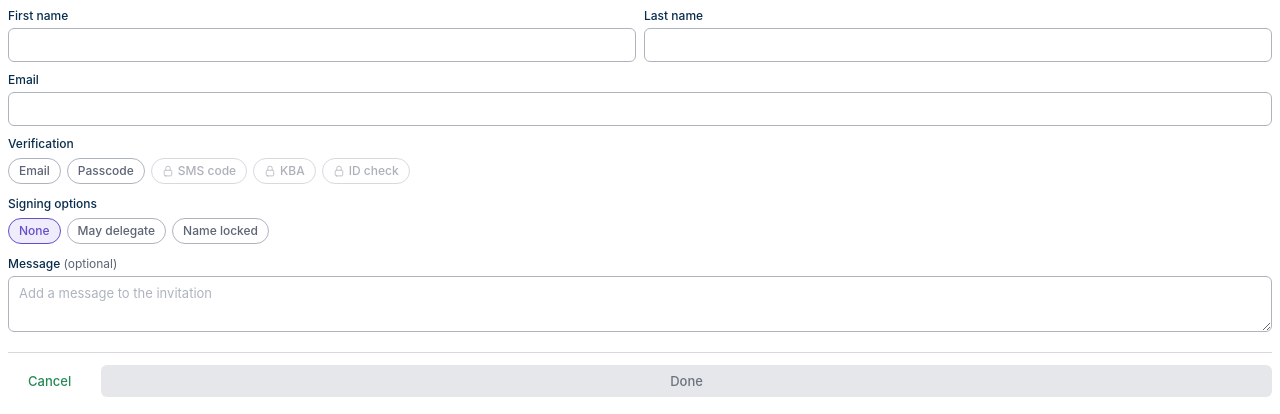
ContactPicker › filters suggestions by the first-name text
Type "Sue" into the field labelled "First name" at {"x": 322, "y": 45}, box [8,28,636,62]
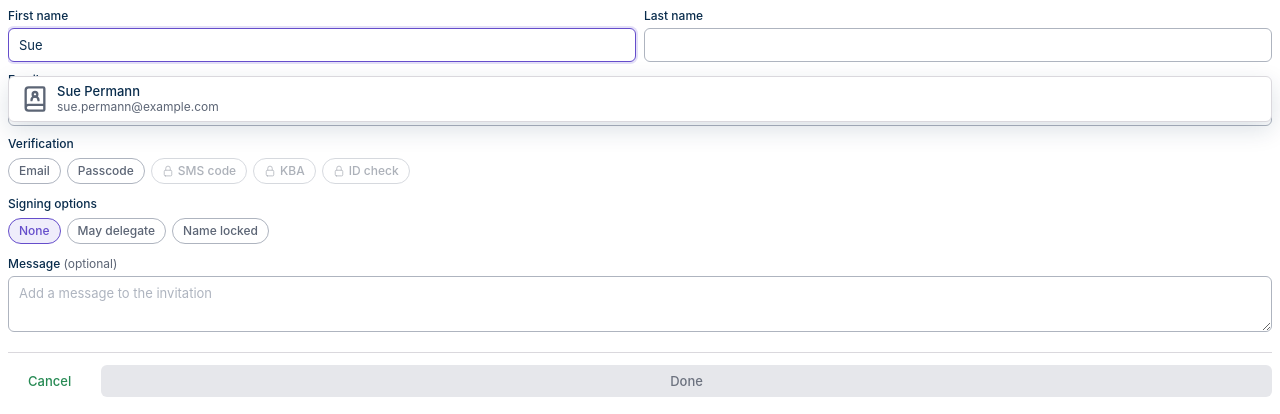
Check: the button "Sue Permann sue.permann@example.com" is shown, box [9,77,1271,121]
